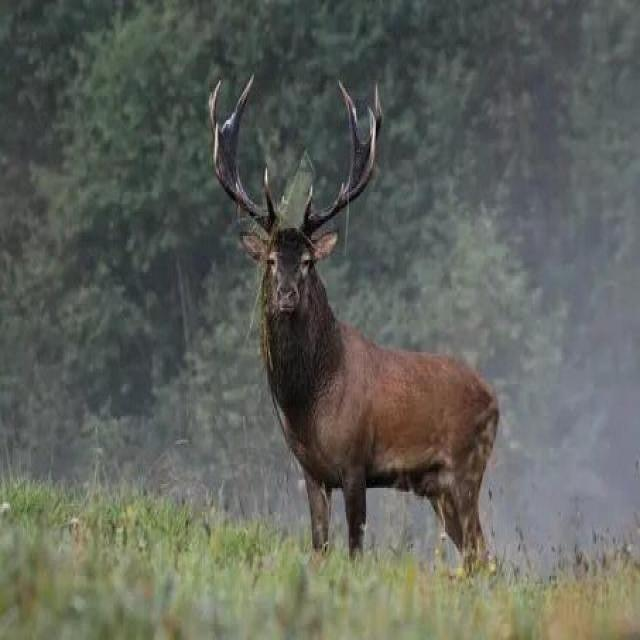deer: (196, 154, 520, 605)
